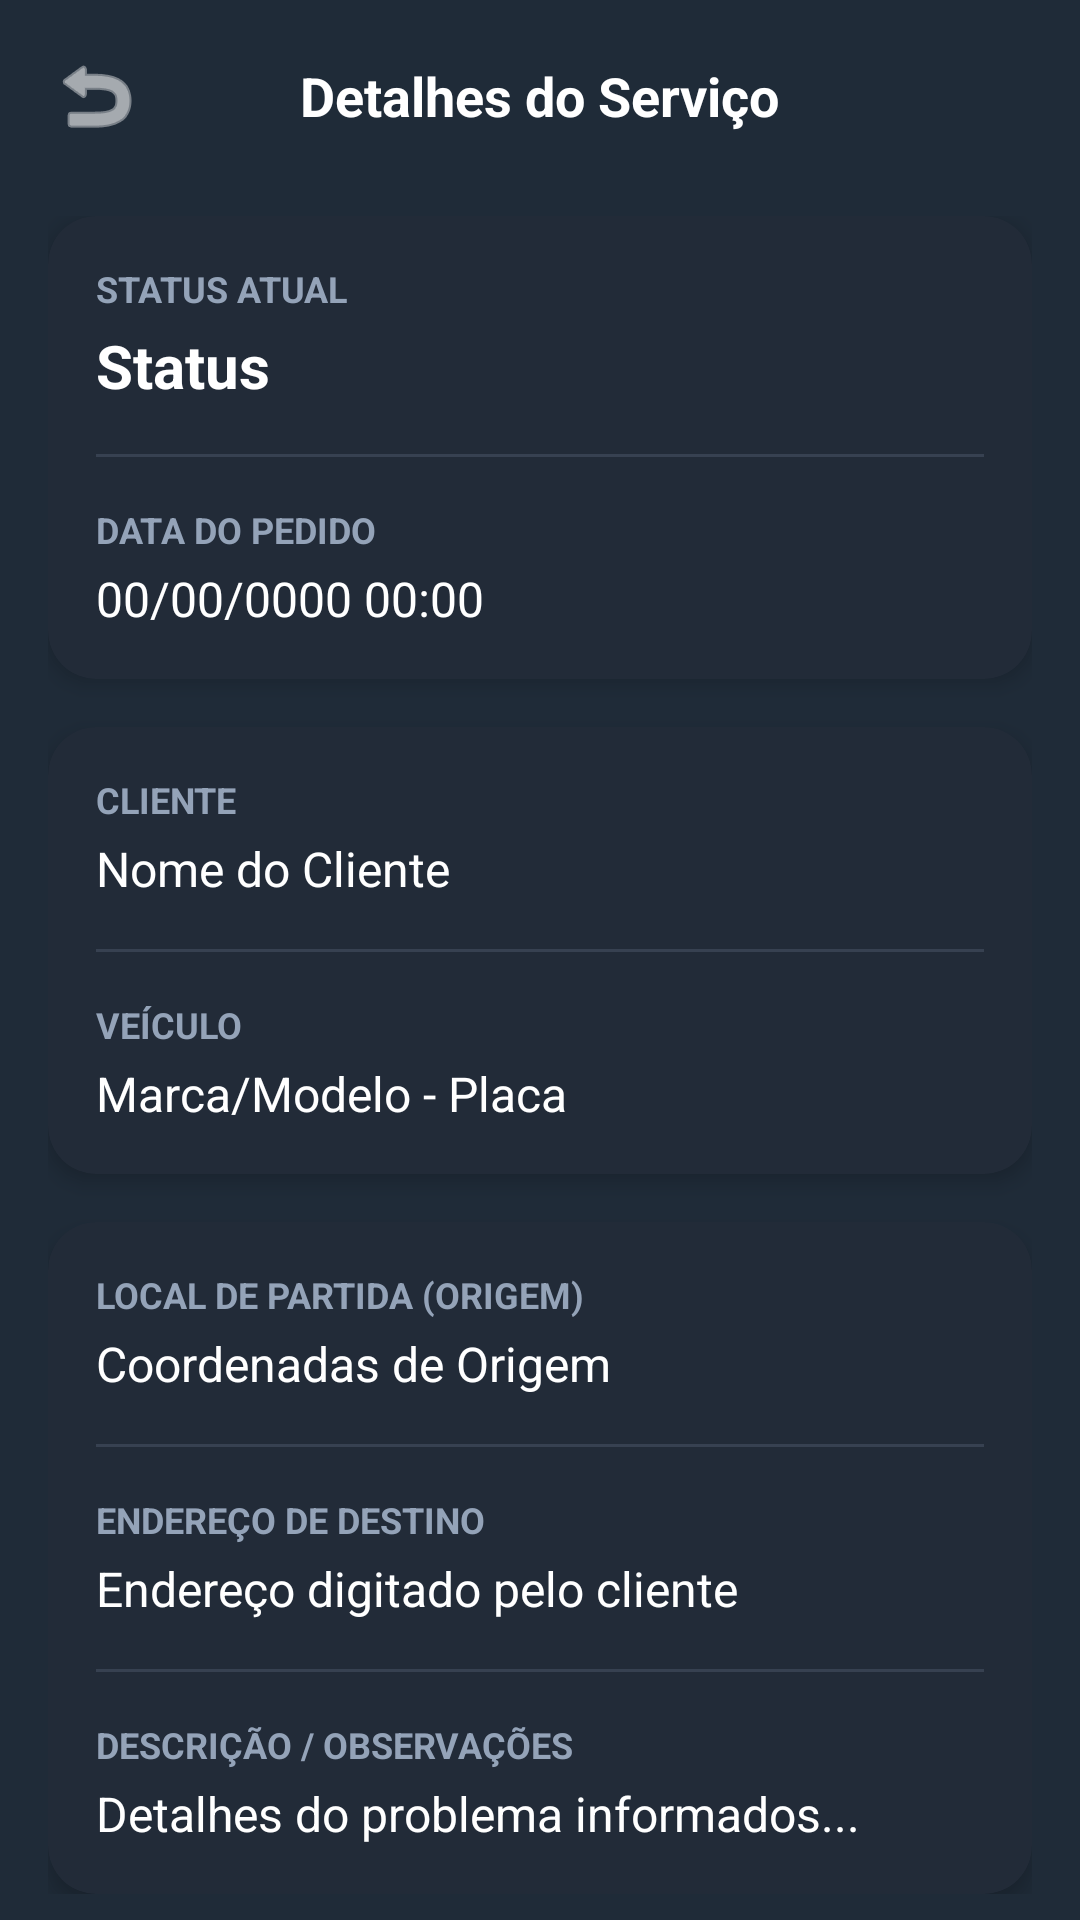

Named icons in this screenshot (1080 × 1920) and their centers, (x=x, y=y):
revert: (x=97, y=96)
